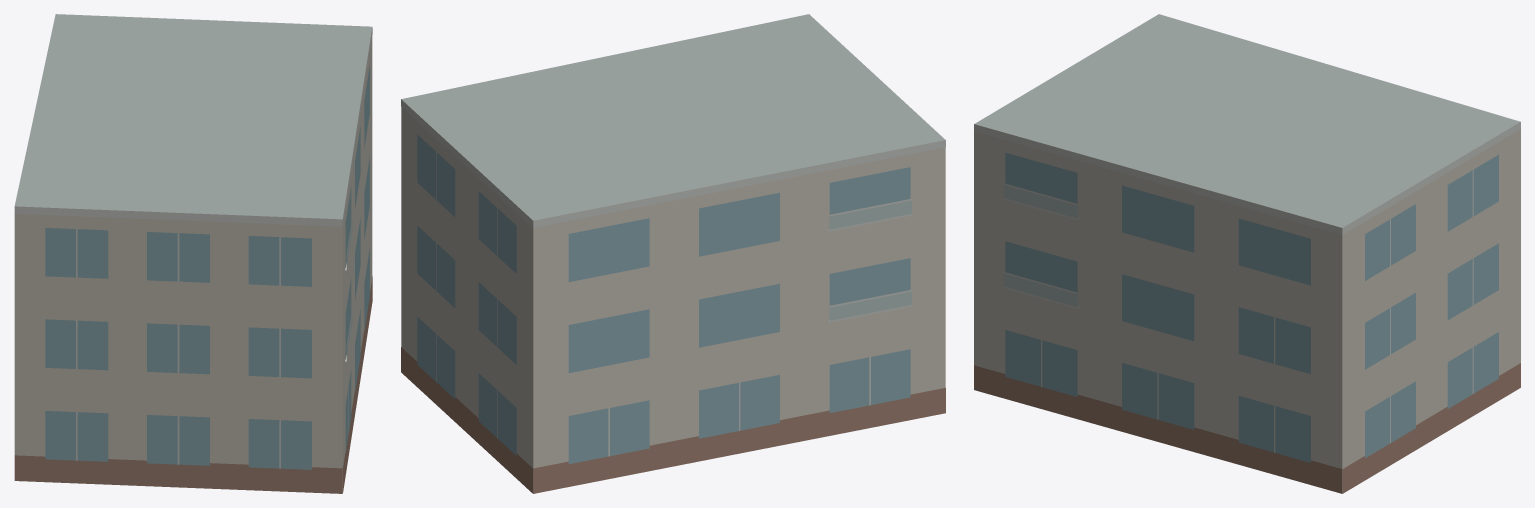
Rendered from survey-upis-32698006.glb.
3 renders of one model, left to right at view 1: azimuth 30°, elevation 25°; view 2: azimuth 150°, elevation 25°; view 3: azimuth 270°, elevation 25°, orthographic. The views are drawn at different scales.
Visible parts, largest first — view 1: survey-upis-32698006.tmp; view 2: survey-upis-32698006.tmp; view 3: survey-upis-32698006.tmp.
Part boxes in pixels (box(x1,y1,x2,y2)): survey-upis-32698006.tmp: box(14, 14, 372, 493); survey-upis-32698006.tmp: box(401, 14, 945, 493); survey-upis-32698006.tmp: box(974, 14, 1520, 493).
Bounding box in the file's own units: 15.8 × 9.15 × 17.06.
